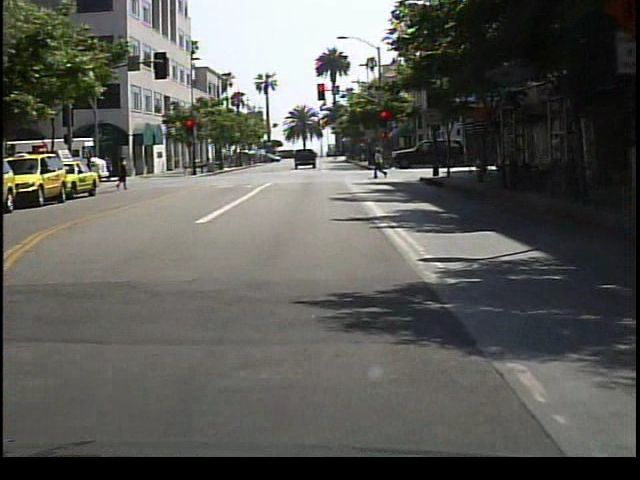person: (472, 138, 492, 182), (372, 147, 391, 181), (116, 157, 131, 192)
